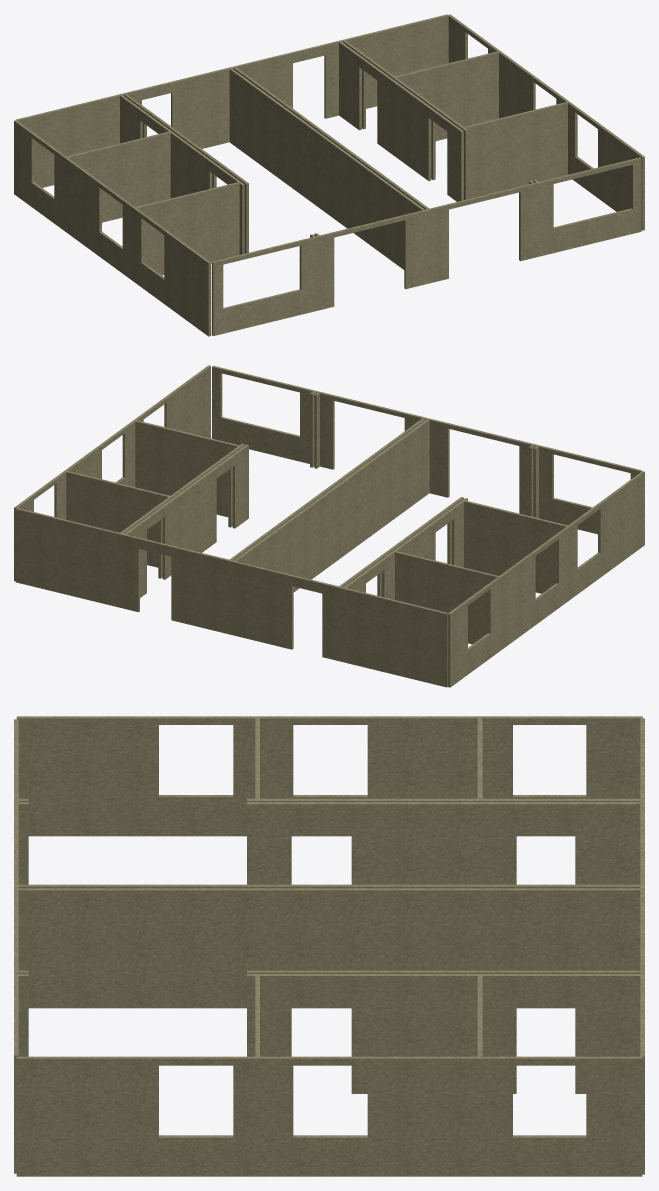
File: Soojustusvill v1.glb
The picture shows the model from 3 angles, top to bottom: view 1: azimuth 30°, elevation 25°; view 2: azimuth 150°, elevation 25°; view 3: azimuth 270°, elevation 25°; orthographic projection. The views are drawn at different scales.
Visible parts, largest first — view 1: Soojustusvill_; view 2: Soojustusvill_; view 3: Soojustusvill_.
Part boxes in pixels (x1,y1,x2,y2): Soojustusvill_: [14, 14, 644, 336]; Soojustusvill_: [14, 365, 644, 687]; Soojustusvill_: [14, 716, 644, 1176].
Size of the model in its own units: 15.15 by 2.43 by 11.79.
1 material, 1 textured.
